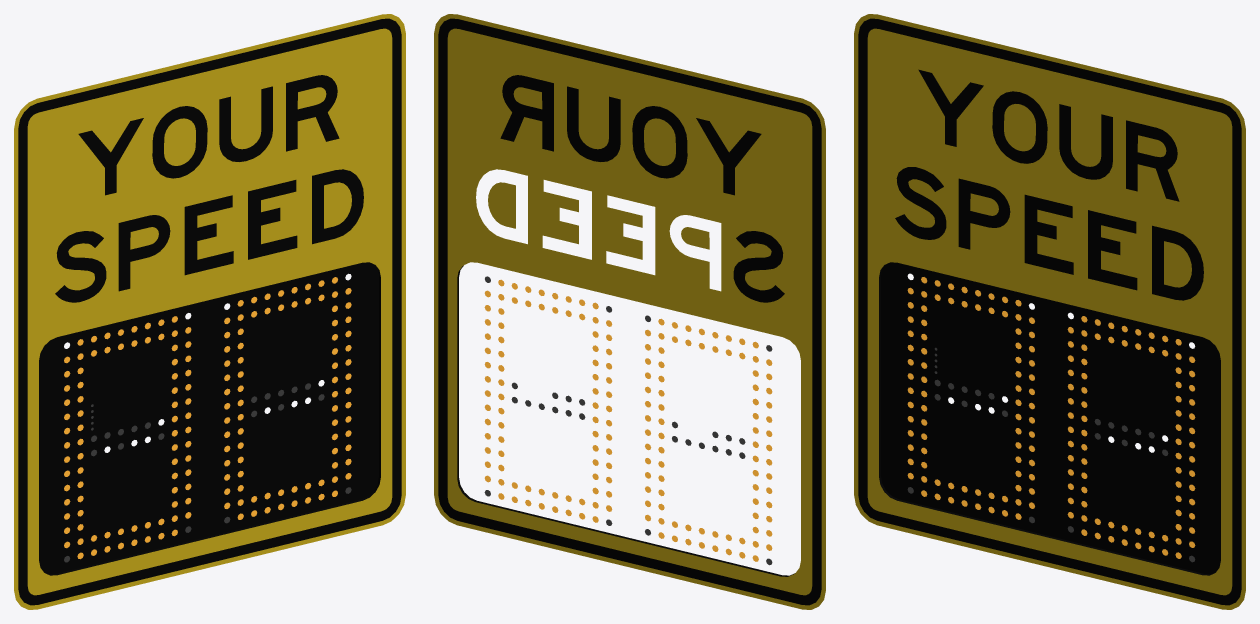
Rendered from sign.glb.
3 views of the same model, side by side, from view 1: azimuth 30°, elevation 25°; view 2: azimuth 150°, elevation 25°; view 3: azimuth 330°, elevation 25° (orthographic).
Visible parts, largest first — view 1: Sign, Digit-Right, Digit-Left; view 2: Sign, Digit-Right, Digit-Left; view 3: Sign, Digit-Right, Digit-Left.
Boxes of the visible parts, bbox=[...] form: Sign: bbox=[14, 14, 405, 609]; Digit-Right: bbox=[224, 277, 351, 523]; Digit-Left: bbox=[64, 316, 191, 562]; Sign: bbox=[434, 14, 825, 609]; Digit-Right: bbox=[484, 276, 612, 525]; Digit-Left: bbox=[645, 315, 772, 565]; Sign: bbox=[854, 14, 1245, 609]; Digit-Right: bbox=[1067, 316, 1195, 562]; Digit-Left: bbox=[907, 277, 1034, 523].
Size of the model in its own units: 0.7257 by 0.9047 by 0.00587.
Materials: 4 (2 with a texture image).
